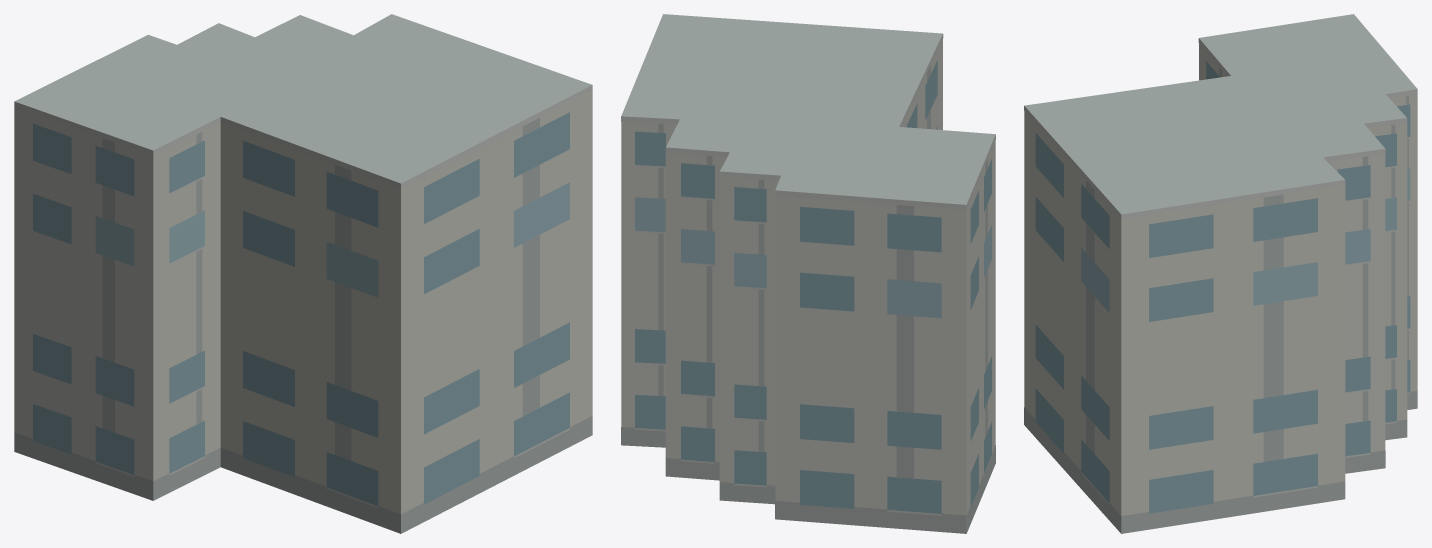
The model's file is survey-upis-32662655.glb.
The picture shows the model from 3 angles, left to right: view 1: azimuth 30°, elevation 25°; view 2: azimuth 150°, elevation 25°; view 3: azimuth 270°, elevation 25°; orthographic projection. The views are drawn at different scales.
Visible parts, largest first — view 1: survey-upis-32662655.tmp; view 2: survey-upis-32662655.tmp; view 3: survey-upis-32662655.tmp.
Boxes of the visible parts, left/top/right/bottom form: survey-upis-32662655.tmp: left=14, top=14, right=592, bottom=533; survey-upis-32662655.tmp: left=621, top=14, right=995, bottom=533; survey-upis-32662655.tmp: left=1024, top=14, right=1417, bottom=533.
Bounding box in the file's own units: 20.54 × 15.25 × 17.03.
